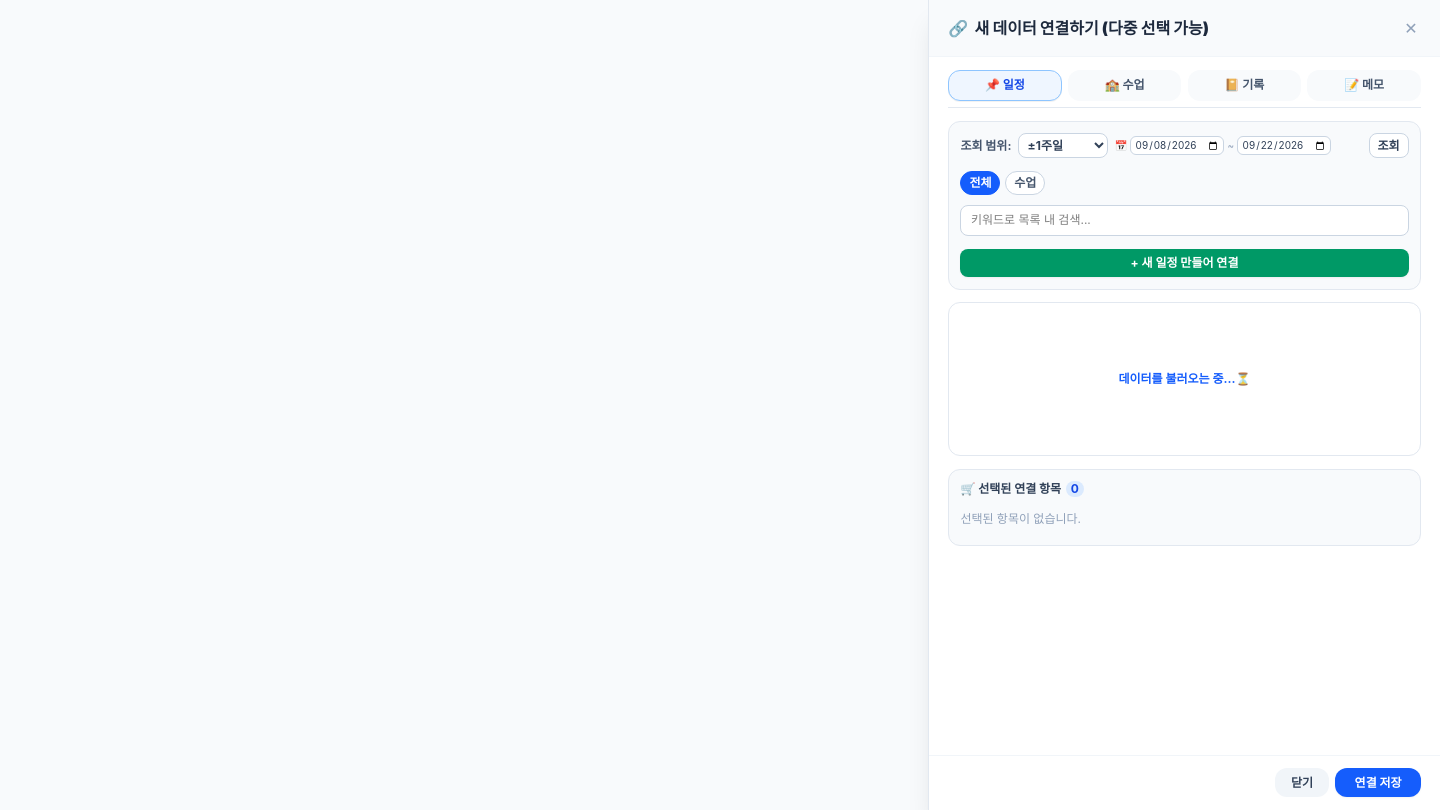
Test: 링크 추가 - 고른 범위의 날짜를 보여 주고 고칠 수 있다 › 날짜를 직접 고치면 '기간 설정'으로 넘어간다
Type "2026-09-01" into the date field named "시작일" at (1177,146), box [1130,136,1224,155]
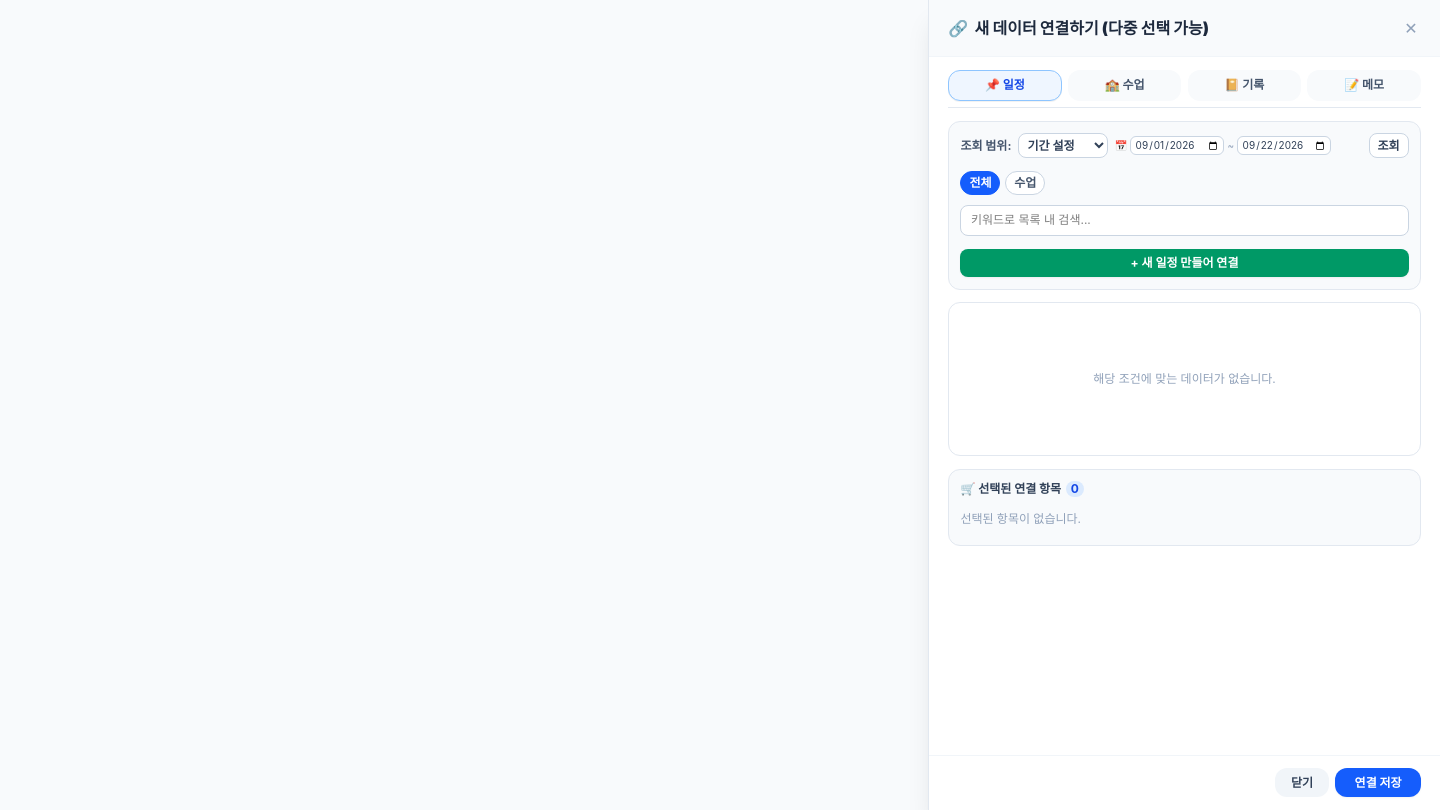
Expected: the date field named "종료일" holds "2026-09-22", [1237,136,1331,155]
Expected: the dropdown showing "기간 설정" is shown, [1018,133,1108,158]
